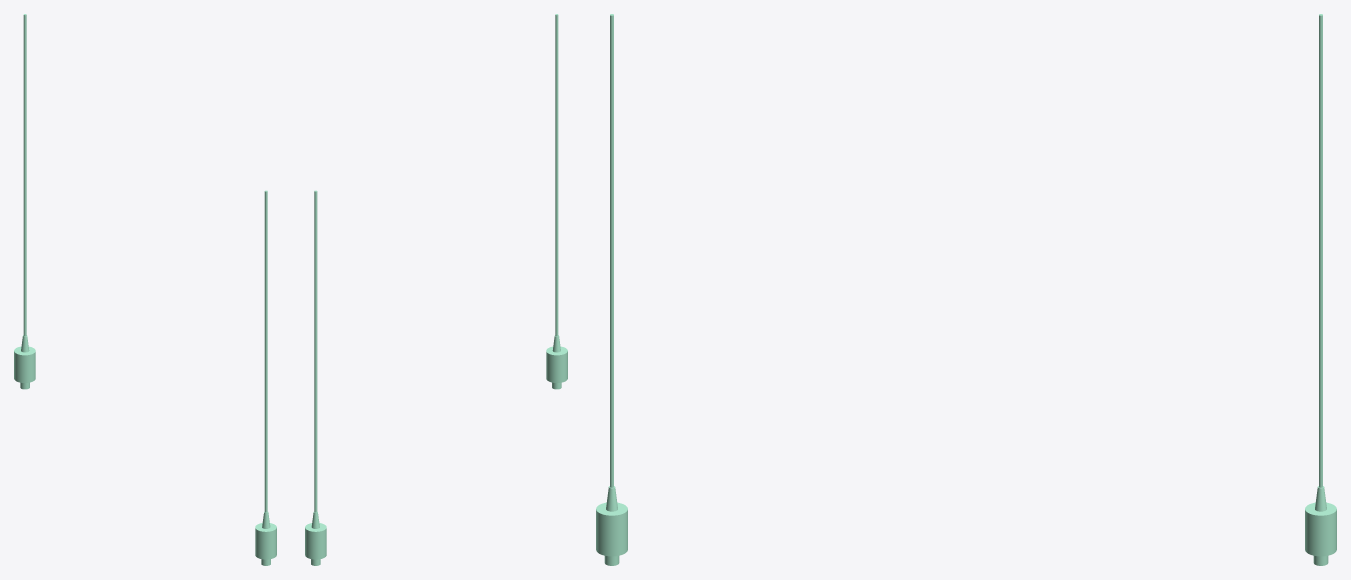
File: OUTFITTING_INTERIOR__EXT. INSTRUMENTS__EXT. INSTR. MOUNTS__EIM V4 (4_ sq tube)__EIMV4 antenna.glb
3 renders of one model, left to right at view 1: azimuth 30°, elevation 25°; view 2: azimuth 150°, elevation 25°; view 3: azimuth 270°, elevation 25°, orthographic. The views are drawn at different scales.
Visible parts, largest first — view 1: EIMV4 antenna; view 2: EIMV4 antenna; view 3: EIMV4 antenna.
Part boxes in pixels (x1,y1,x2,y2): EIMV4 antenna: (14,14,276,565); EIMV4 antenna: (305,14,567,565); EIMV4 antenna: (596,14,1336,565).
Size of the model in its own units: 0.0558 by 1.06 by 1.3.
